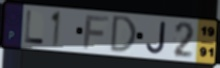1: (49, 10, 64, 50)
2: (173, 21, 196, 60)
D: (108, 14, 138, 54)
F: (82, 14, 111, 50)
J: (144, 20, 168, 56)
L: (24, 9, 46, 46)
